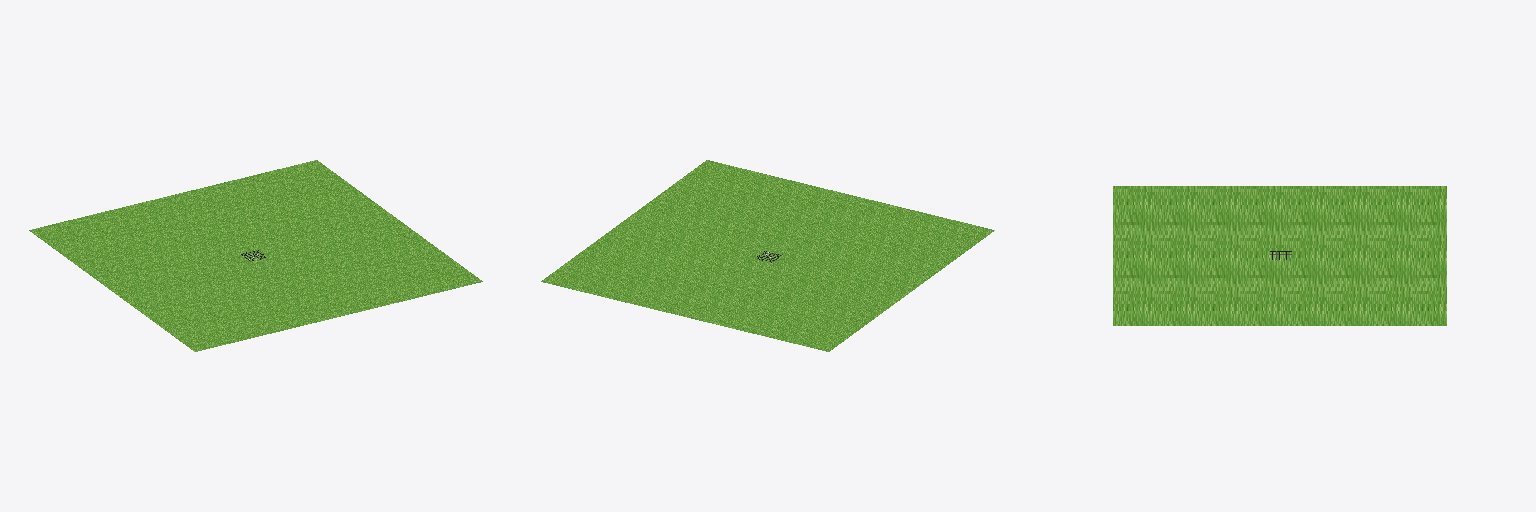
The picture shows the model from 3 angles: view 1: azimuth 30°, elevation 25°; view 2: azimuth 150°, elevation 25°; view 3: azimuth 270°, elevation 25°; orthographic projection.
Parts seen in each view (by area): view 1: pCube188; view 2: pCube188; view 3: pCube188.
Boxes of the visible parts, box(x1,y1,x2,y2) form: pCube188: box(29, 160, 482, 351); pCube188: box(541, 160, 994, 351); pCube188: box(1113, 186, 1446, 325).
Size of the model in its own units: 381 by 0.0311 by 381.
Materials: 2 (2 with a texture image).